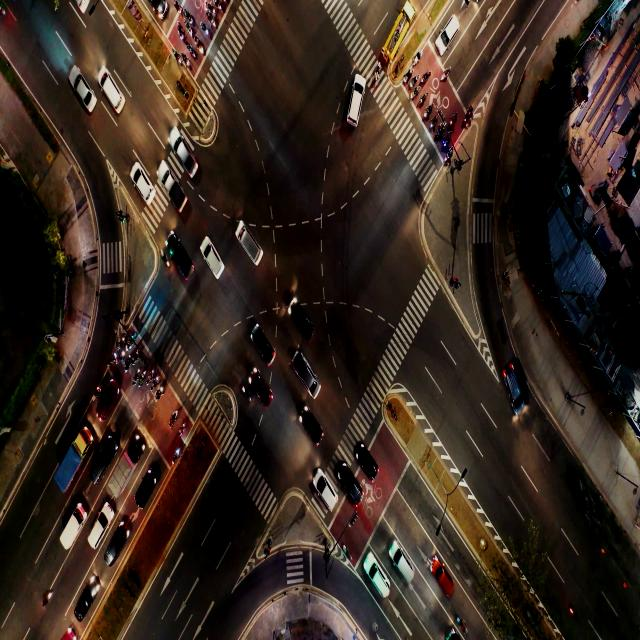bus: (391, 24, 404, 49)
car: (299, 366, 315, 394), (178, 146, 193, 173), (436, 569, 452, 594), (372, 564, 384, 590), (509, 367, 516, 406), (208, 244, 218, 271), (396, 554, 408, 576), (297, 309, 308, 333), (322, 480, 332, 506), (351, 86, 358, 122), (364, 454, 374, 478), (306, 415, 316, 439), (78, 85, 90, 105), (258, 381, 270, 400), (248, 238, 258, 260), (259, 340, 270, 358), (106, 83, 116, 101), (99, 396, 109, 414), (94, 456, 104, 474), (442, 23, 452, 40), (175, 255, 186, 270), (138, 179, 148, 195), (350, 482, 358, 501), (110, 541, 118, 559), (79, 597, 88, 613), (95, 521, 102, 539), (140, 488, 146, 500)
motorcycle: (173, 54, 181, 68), (421, 71, 428, 85), (178, 422, 186, 434), (173, 451, 180, 464), (442, 69, 450, 80), (466, 108, 472, 122), (374, 67, 380, 81), (196, 41, 202, 52), (244, 386, 248, 402), (108, 357, 114, 367), (178, 26, 183, 38), (114, 353, 118, 366), (189, 46, 194, 56), (172, 413, 176, 425), (128, 339, 132, 351), (210, 18, 216, 26), (438, 126, 444, 134), (156, 391, 161, 400), (152, 378, 157, 387), (184, 57, 189, 66), (449, 116, 454, 125), (414, 55, 419, 64), (126, 358, 130, 369), (186, 23, 190, 34), (118, 340, 123, 348), (175, 2, 179, 12), (134, 354, 138, 363), (95, 387, 98, 399), (208, 6, 214, 12), (203, 27, 208, 34), (414, 89, 419, 96), (413, 77, 418, 84), (141, 373, 144, 384), (121, 354, 125, 362), (420, 98, 424, 106), (187, 12, 190, 22), (432, 120, 437, 126), (148, 375, 152, 382), (135, 373, 138, 382), (407, 74, 412, 79), (426, 110, 430, 116), (448, 154, 452, 158), (445, 138, 449, 142)
truck: (63, 451, 75, 476), (68, 515, 80, 538), (168, 182, 180, 204), (116, 464, 124, 487)
